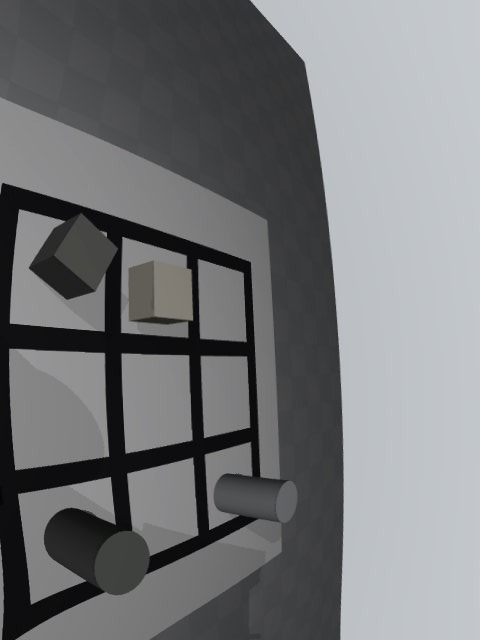can: (214, 473, 298, 523)
cube: (29, 213, 118, 300)
cylinder: (44, 508, 150, 595)
foam: (128, 261, 193, 324)
